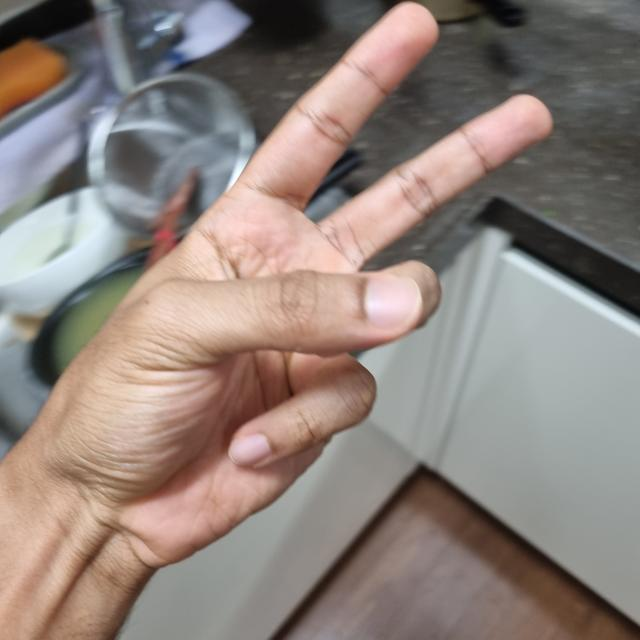Scissors: (31, 5, 544, 560)
